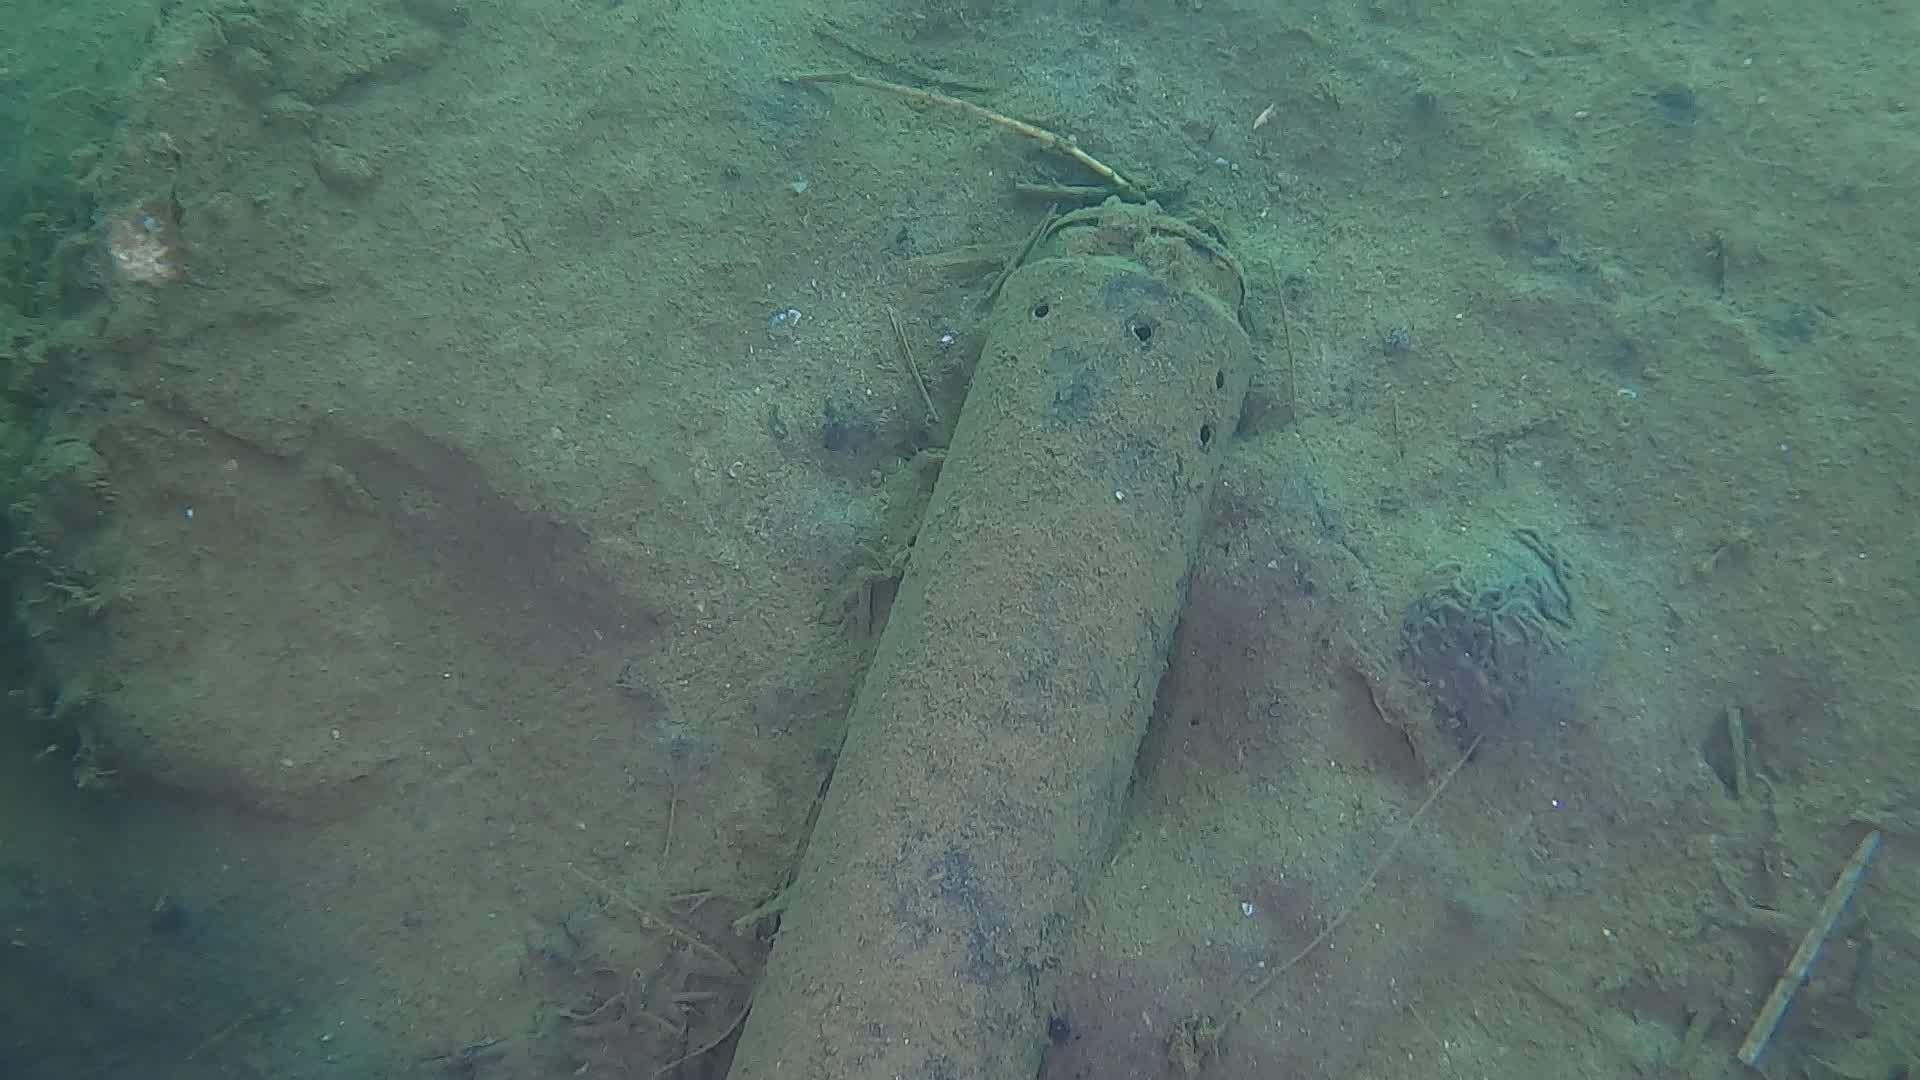eel fish trap: (725, 196, 1259, 1080)
